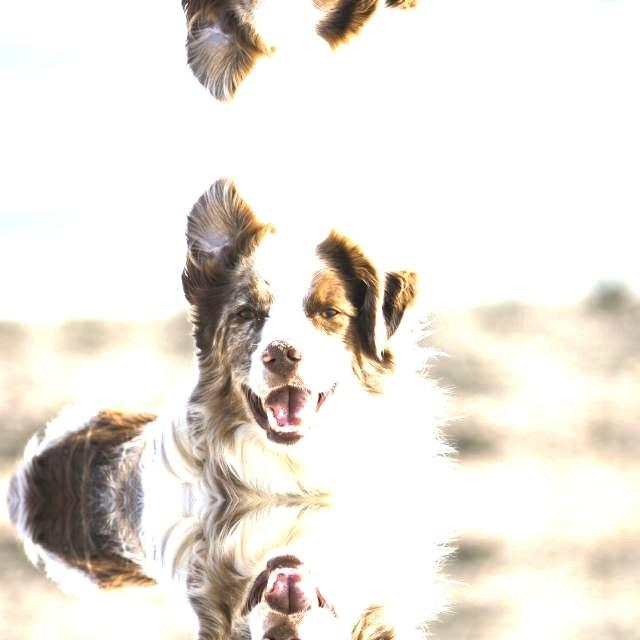dog: (19, 172, 447, 500), (20, 500, 447, 640), (20, 0, 447, 107)
